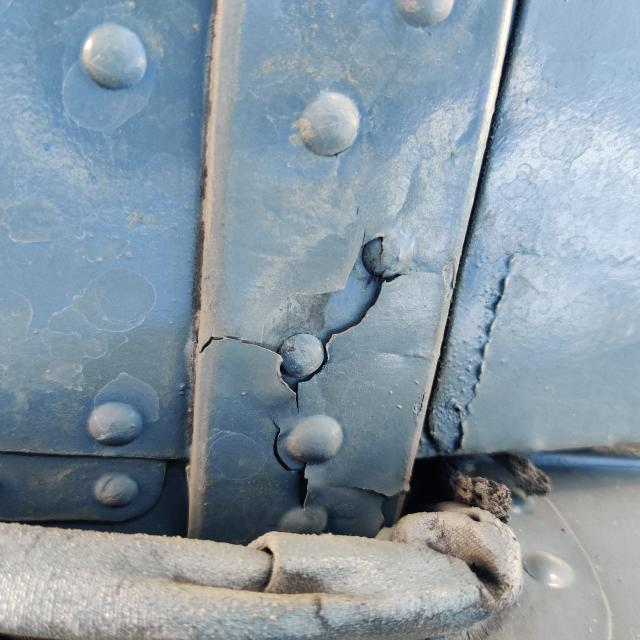crack: (184, 218, 413, 524), (324, 464, 420, 546)
